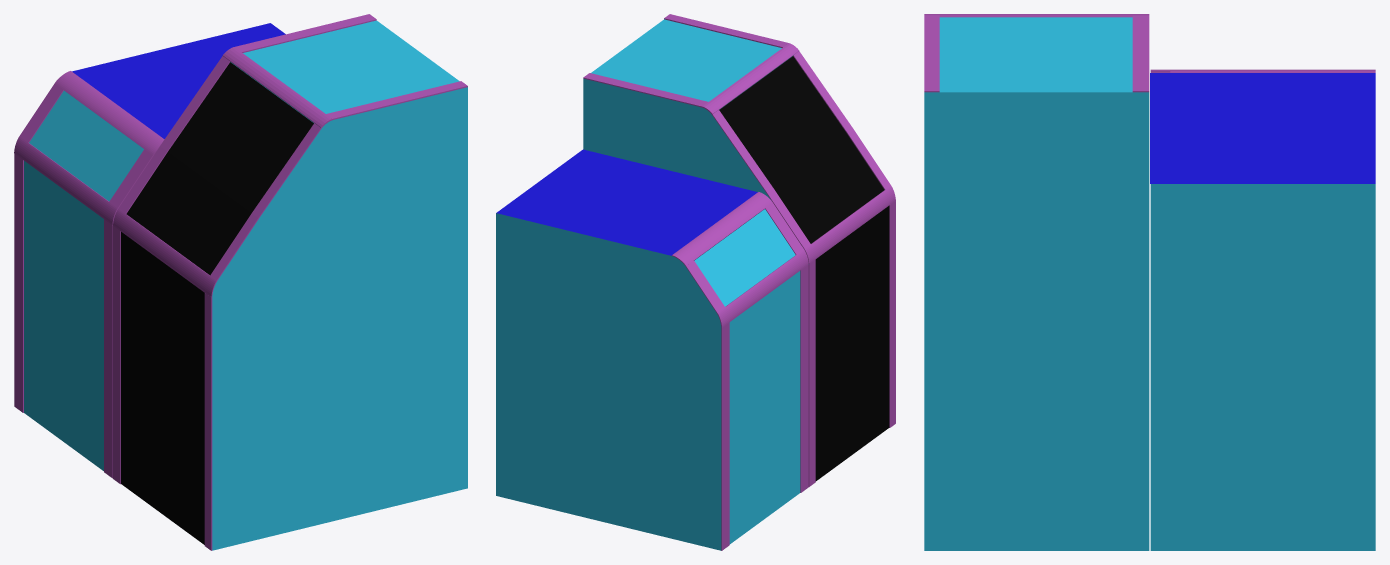
Rendered from machine4.5.fbx.
3 renders of one model, left to right at view 1: azimuth 30°, elevation 25°; view 2: azimuth 150°, elevation 25°; view 3: azimuth 270°, elevation 25°, orthographic. The views are drawn at different scales.
Parts seen in each view (by area): view 1: Cube.001; view 2: Cube.001; view 3: Cube.001.
Part boxes in pixels (bbox=[...]): Cube.001: bbox=[14, 14, 467, 550]; Cube.001: bbox=[496, 14, 895, 550]; Cube.001: bbox=[924, 14, 1375, 550].
Size of the model in its own units: 76.47 by 115 by 102.
